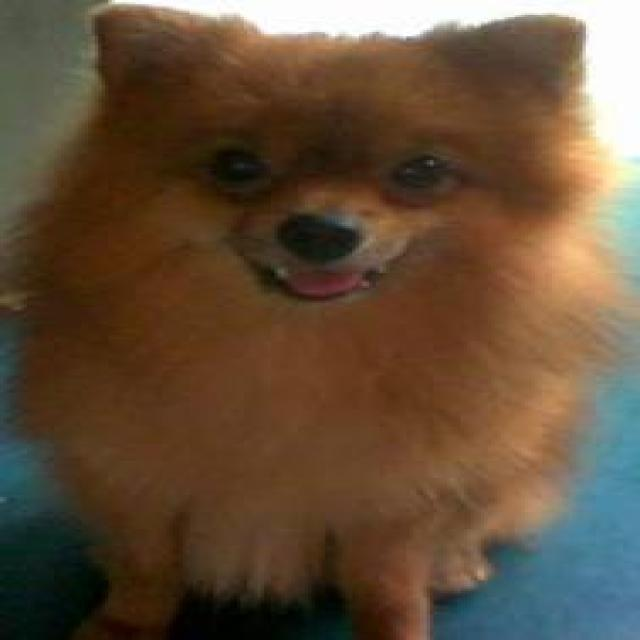dog-pomeranian: (3, 2, 623, 636)
